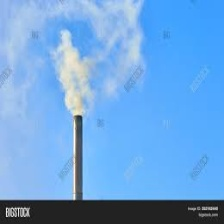smoke: (53, 30, 102, 119)
